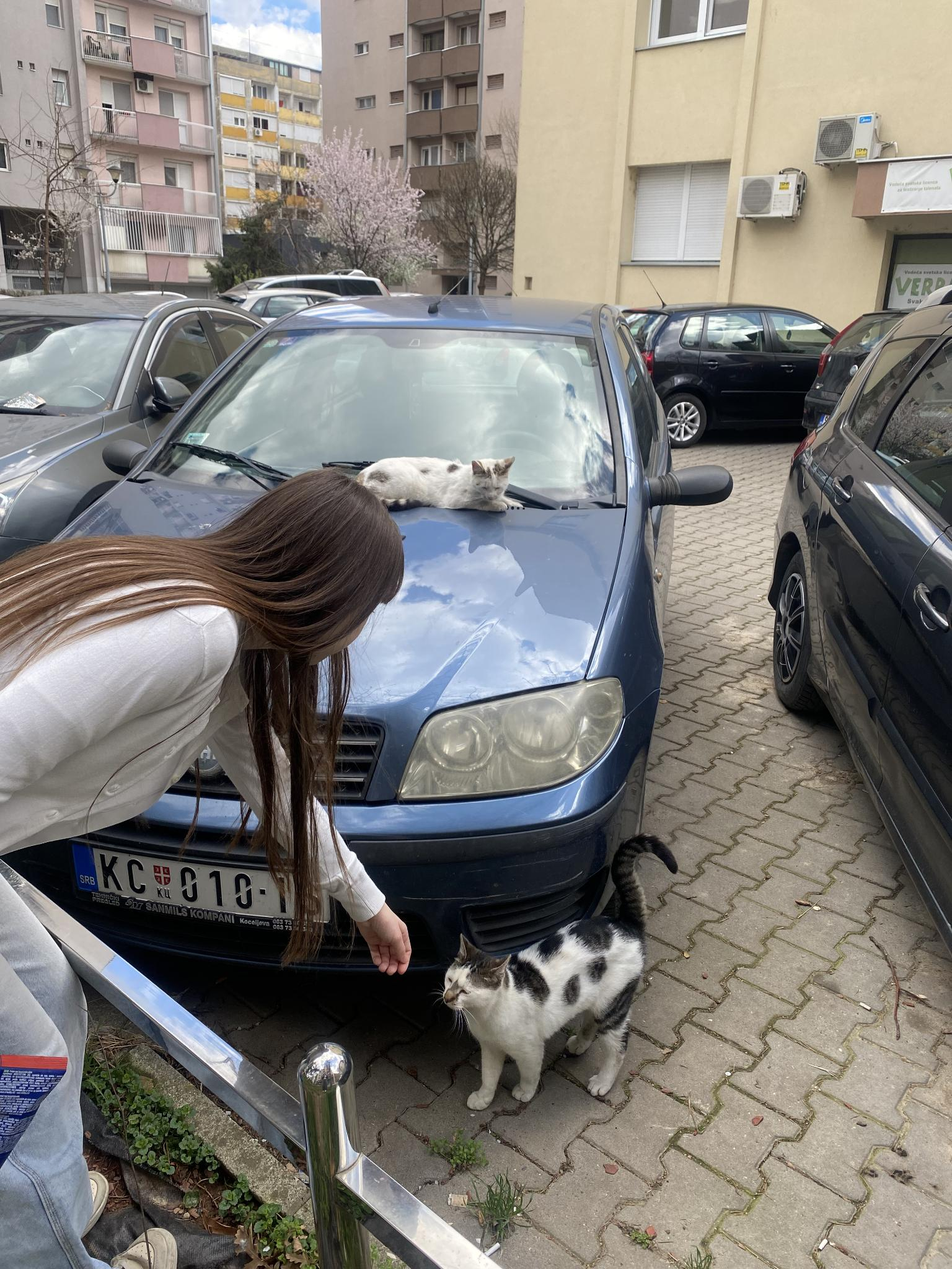macka: (439, 833, 682, 1112), (355, 456, 521, 512)
